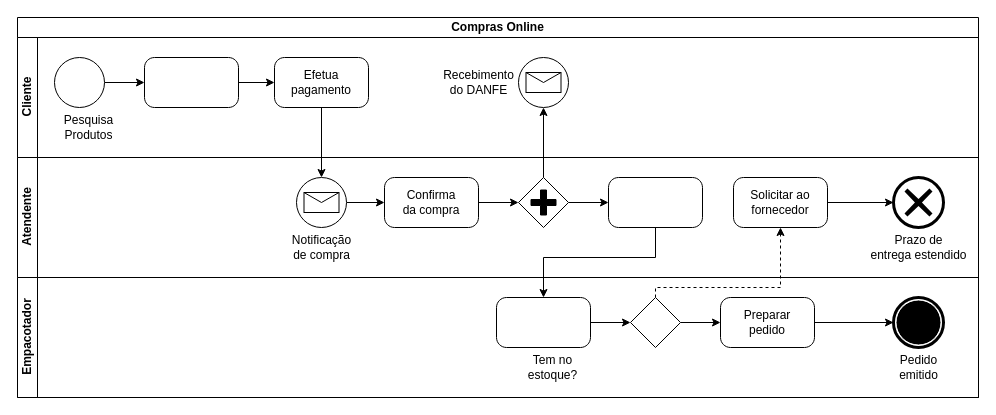
The diagram is 996 pixels wide and 415 high, and some of its shapes have lost their labels. The shapes that lost their labels are listed below. From the top down, each one's centre as x and y in pixels, then its label:
pixel 191 82: Insere produto no carrinho
pixel 655 202: Emissão da nota fiscal
pixel 543 322: Verificar estoque
